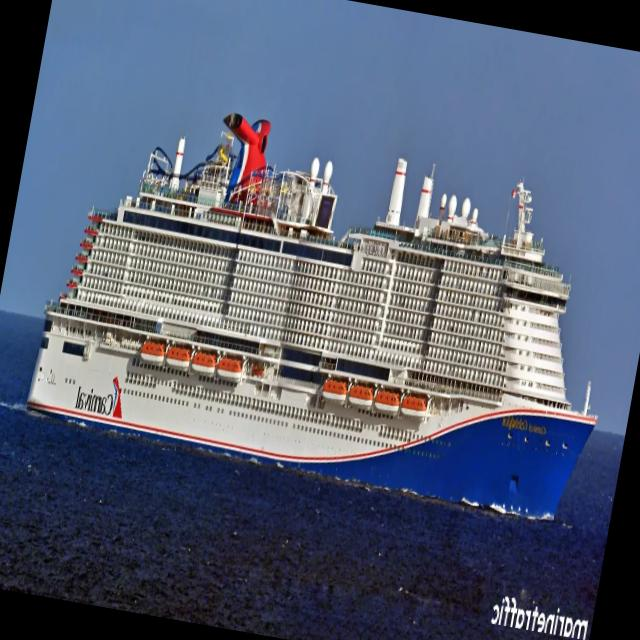Cruise: (27, 112, 596, 517)
